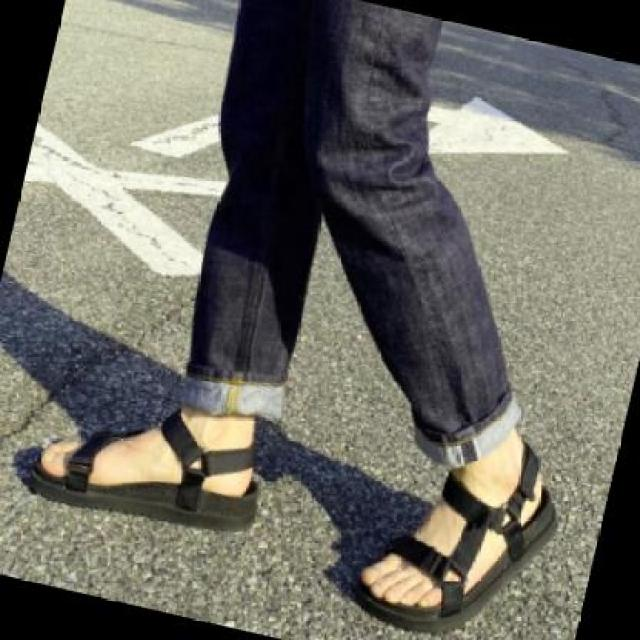Sandals: (26, 344, 262, 533), (350, 442, 560, 631)
